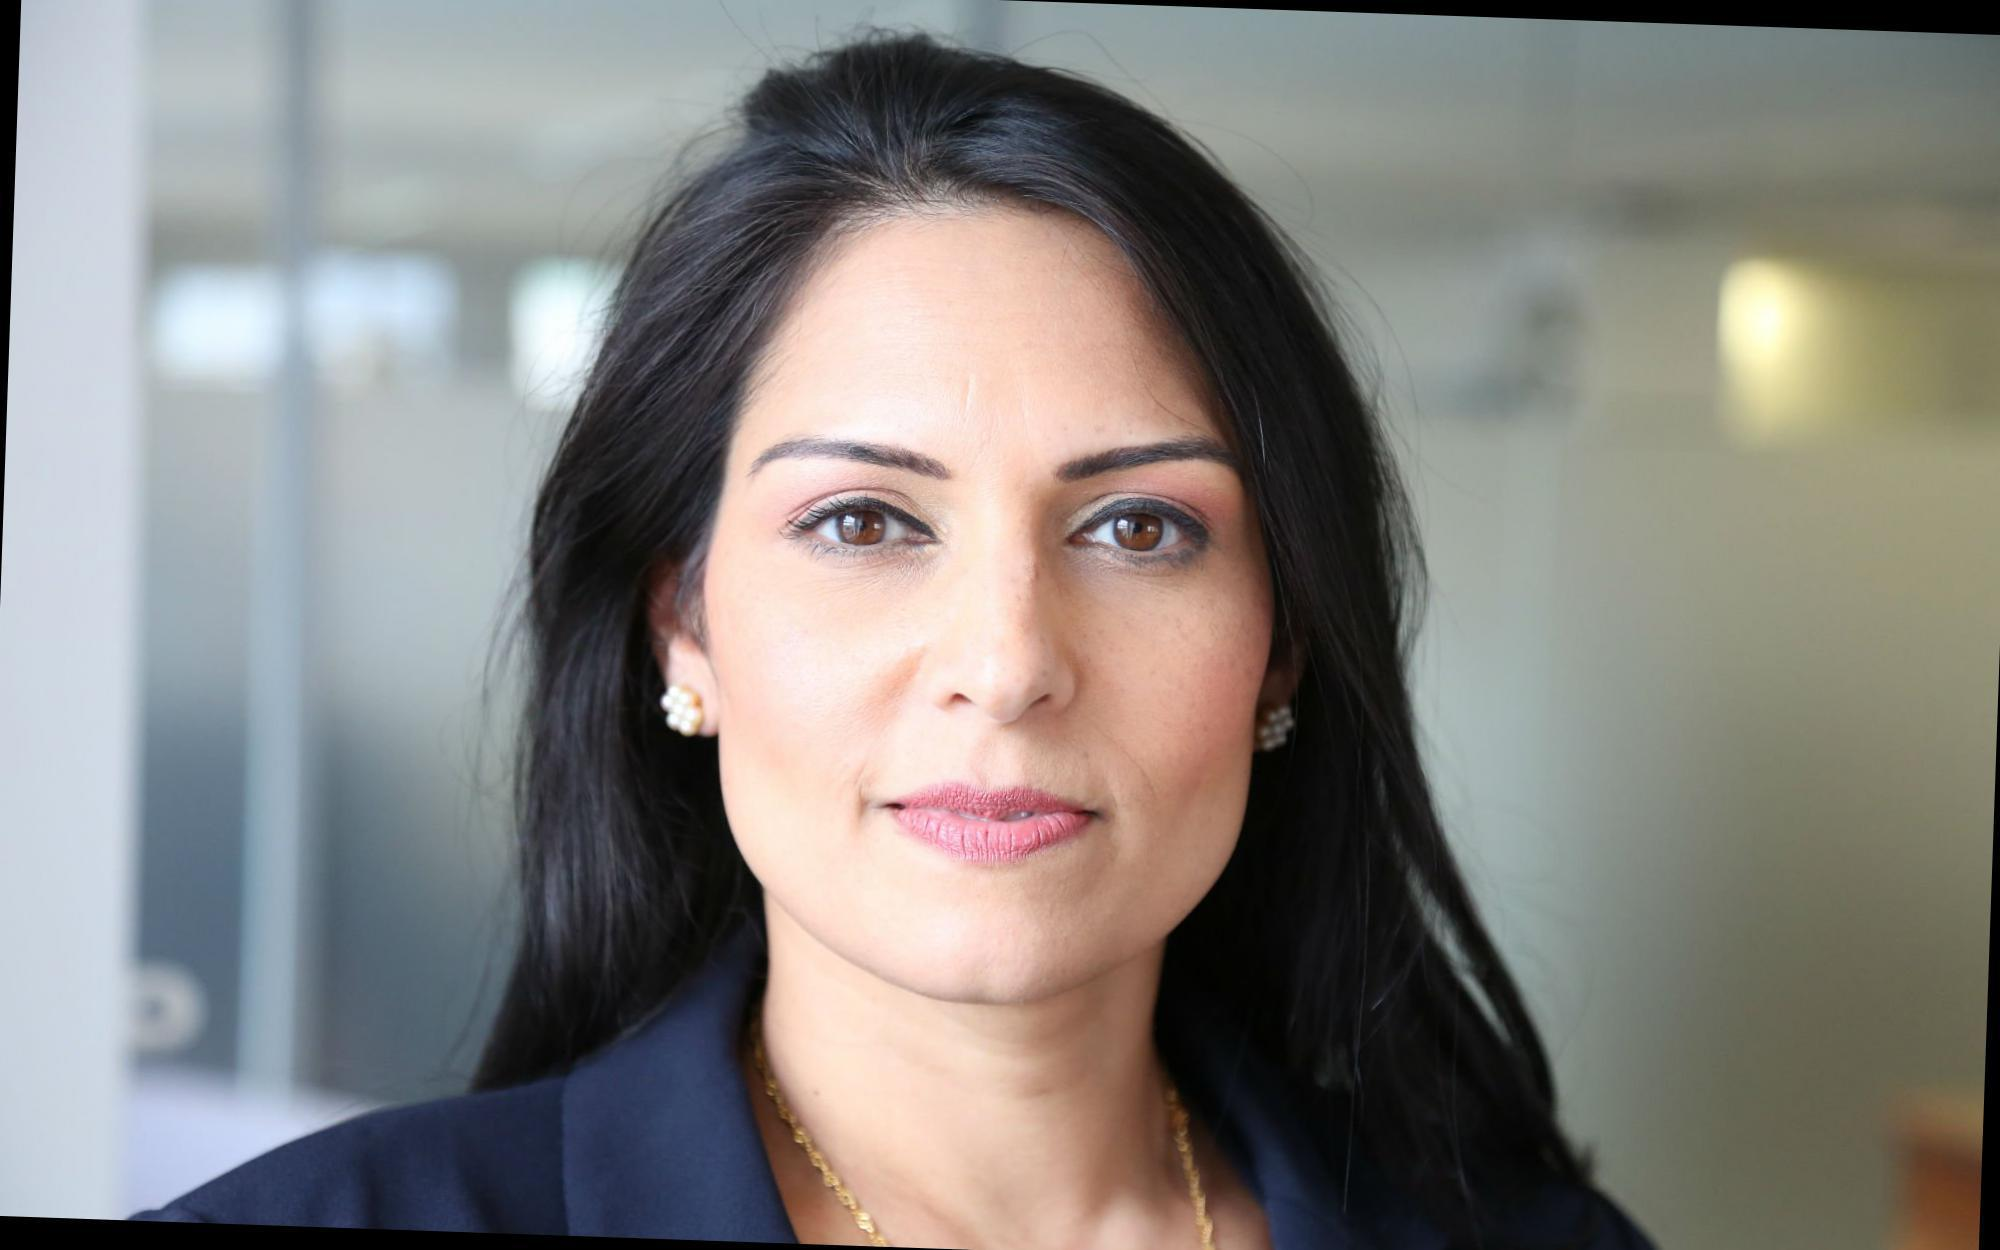Sober: (736, 266, 1257, 971)
